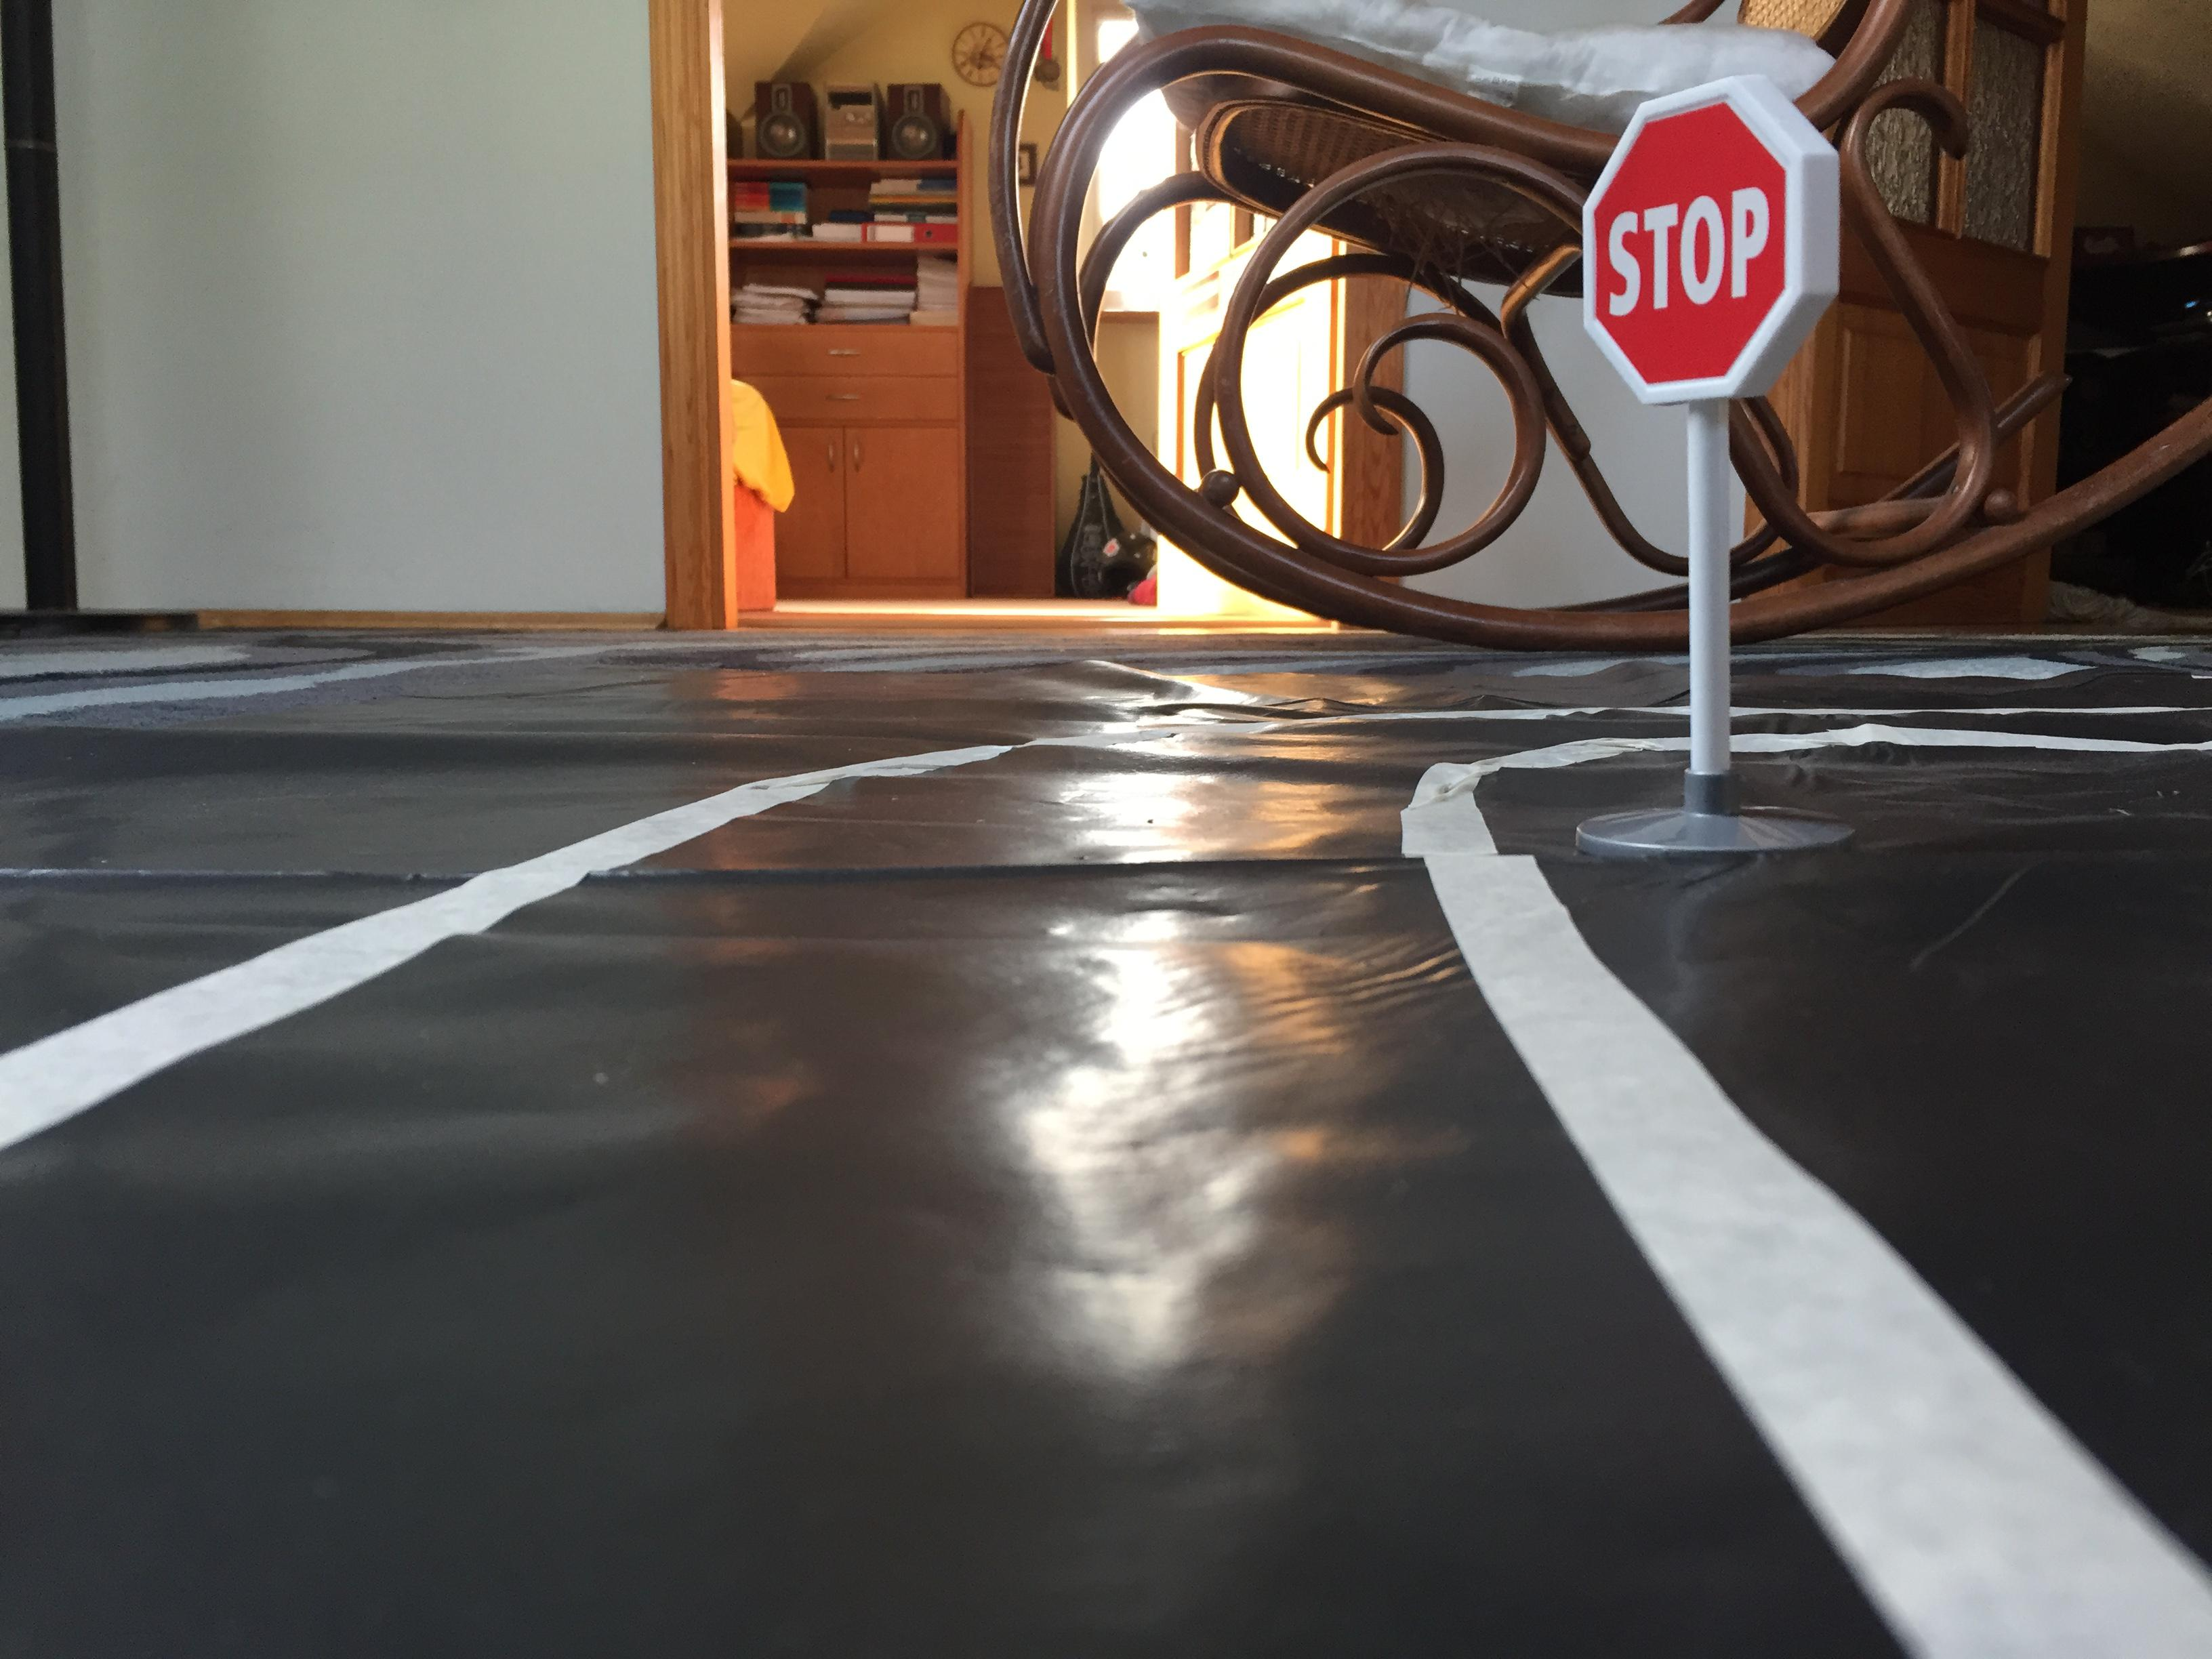stop: (1573, 73, 1855, 420)
